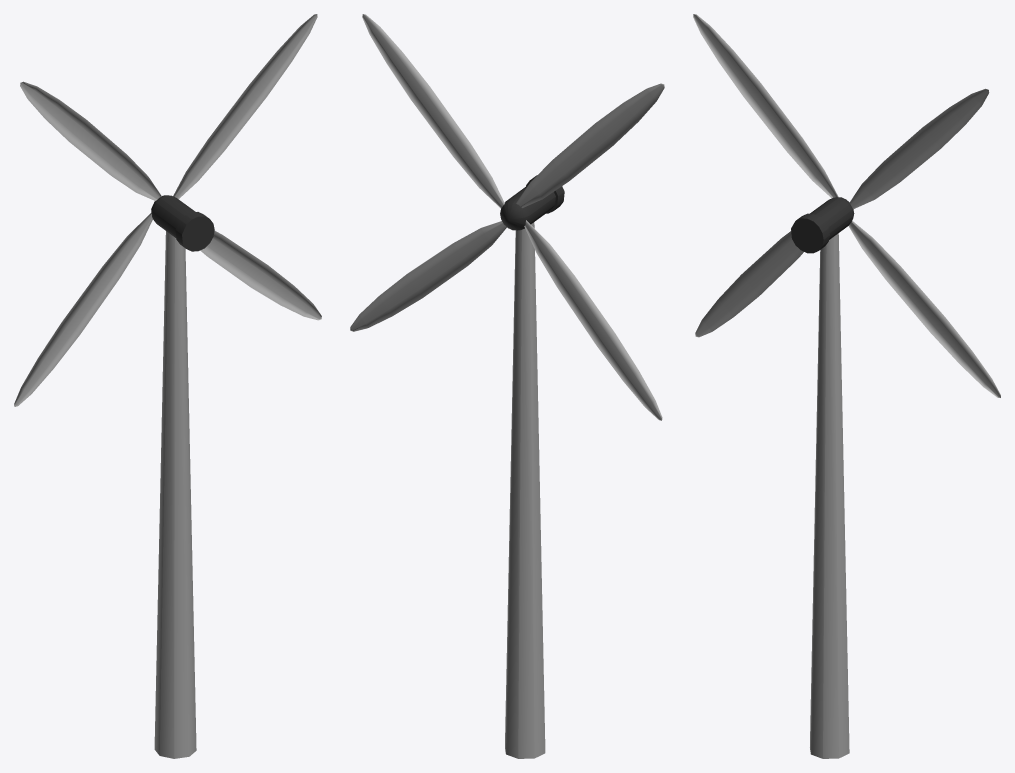
The model's file is ARC0710071.fbx.
3 views of the same model, side by side, from view 1: azimuth 30°, elevation 25°; view 2: azimuth 150°, elevation 25°; view 3: azimuth 330°, elevation 25° (orthographic). The views are drawn at different scales.
Parts seen in each view (by area): view 1: smARC0710071; view 2: smARC0710071; view 3: smARC0710071.
Part boxes in pixels (box(x1,y1,x2,y2)): smARC0710071: box(14, 14, 321, 758); smARC0710071: box(350, 14, 664, 758); smARC0710071: box(693, 14, 1000, 758).
Size of the model in its own units: 288 by 624 by 63.12.
1 material, 1 textured.
